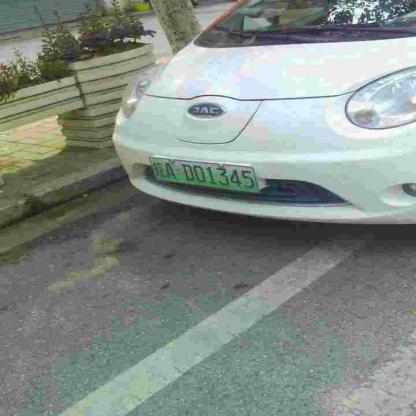lp: (147, 156, 260, 193)
